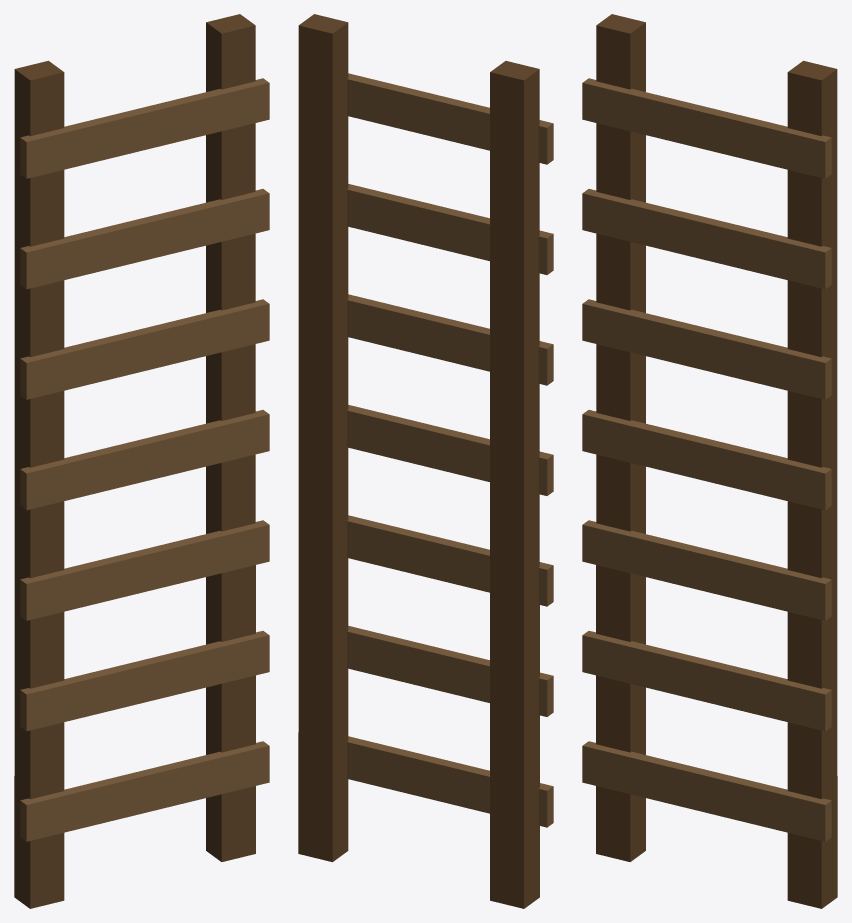
The model's file is Stairs_01.glb.
3 renders of one model, left to right at view 1: azimuth 30°, elevation 25°; view 2: azimuth 150°, elevation 25°; view 3: azimuth 330°, elevation 25°, orthographic.
Parts seen in each view (by area): view 1: Stairs_01; view 2: Stairs_01; view 3: Stairs_01.
Part boxes in pixels (box(x1,y1,x2,y2)): Stairs_01: box(14, 14, 269, 908); Stairs_01: box(298, 14, 553, 908); Stairs_01: box(582, 14, 837, 908).
Size of the model in its own units: 0.5923 by 1.93 by 0.0874.
Materials: 1 (1 with a texture image).
